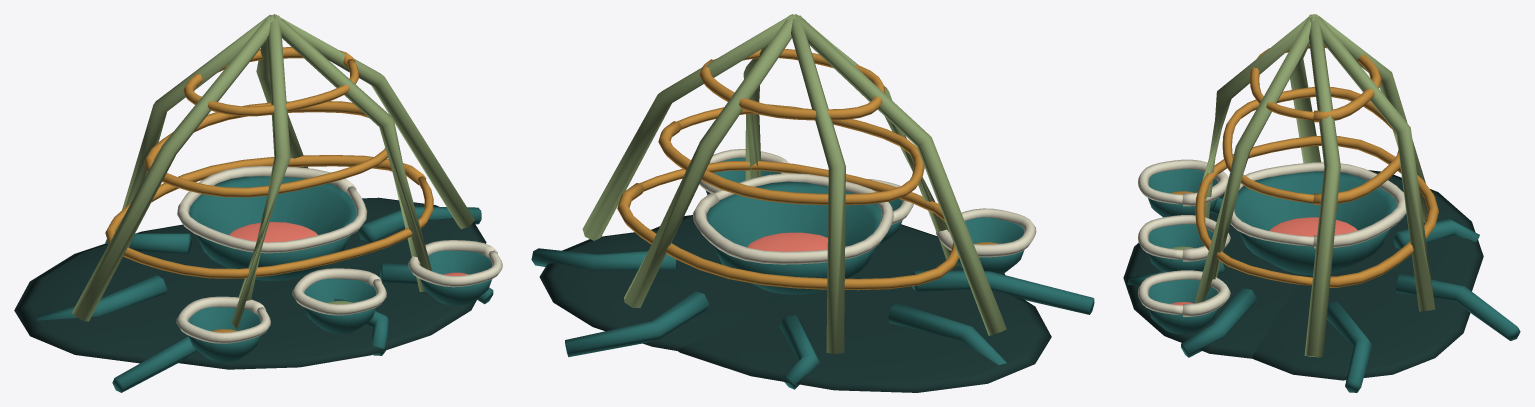
The model's file is building_artisan_organ_a.obj.
The picture shows the model from 3 angles, left to right: view 1: azimuth 30°, elevation 25°; view 2: azimuth 150°, elevation 25°; view 3: azimuth 270°, elevation 25°; orthographic projection. The views are drawn at different scales.
Parts seen in each view (by area): view 1: irregular_anchoring_lobe.108, irregular_anchoring_lobe.110, open_living_cup.109, woven_cross_strand.003, tensioned_forming_rib.009, tensioned_forming_rib.011, grown_cup_lip.109, tensioned_forming_rib.006, tensioned_forming_rib.010, woven_cross_strand.004, irregular_anchoring_lobe.109, tensioned_forming_rib.008 (+15 smaller); view 2: irregular_anchoring_lobe.108, irregular_anchoring_lobe.109, open_living_cup.109, woven_cross_strand.003, tensioned_forming_rib.009, tensioned_forming_rib.008, tensioned_forming_rib.007, tensioned_forming_rib.006, woven_cross_strand.004, grown_cup_lip.109, irregular_anchoring_lobe.110, anchoring_root.253 (+11 smaller); view 3: irregular_anchoring_lobe.109, open_living_cup.109, irregular_anchoring_lobe.110, tensioned_forming_rib.006, woven_cross_strand.003, tensioned_forming_rib.007, irregular_anchoring_lobe.108, tensioned_forming_rib.011, grown_cup_lip.109, woven_cross_strand.004, tensioned_forming_rib.010, open_living_cup.112 (+13 smaller).
Boxes of the visible parts, left/top/right/bottom form: irregular_anchoring_lobe.108: left=14, top=224, right=270, bottom=363; irregular_anchoring_lobe.110: left=178, top=264, right=477, bottom=369; open_living_cup.109: left=189, top=176, right=356, bottom=281; woven_cross_strand.003: left=105, top=155, right=433, bottom=278; tensioned_forming_rib.009: left=72, top=16, right=273, bottom=321; tensioned_forming_rib.011: left=276, top=15, right=432, bottom=291; grown_cup_lip.109: left=177, top=166, right=367, bottom=253; tensioned_forming_rib.006: left=274, top=14, right=474, bottom=229; tensioned_forming_rib.010: left=231, top=18, right=290, bottom=328; woven_cross_strand.004: left=144, top=101, right=387, bottom=197; irregular_anchoring_lobe.109: left=317, top=197, right=486, bottom=269; tensioned_forming_rib.008: left=122, top=15, right=271, bottom=247; irregular_anchoring_lobe.108: left=678, top=287, right=1051, bottom=392; irregular_anchoring_lobe.109: left=539, top=230, right=773, bottom=350; open_living_cup.109: left=706, top=181, right=881, bottom=294; woven_cross_strand.003: left=617, top=160, right=958, bottom=290; tensioned_forming_rib.009: left=796, top=15, right=1006, bottom=335; tensioned_forming_rib.008: left=791, top=17, right=845, bottom=353; tensioned_forming_rib.007: left=624, top=16, right=792, bottom=308; tensioned_forming_rib.006: left=582, top=14, right=793, bottom=240; woven_cross_strand.004: left=658, top=104, right=924, bottom=205; grown_cup_lip.109: left=692, top=173, right=893, bottom=264; irregular_anchoring_lobe.110: left=651, top=215, right=1005, bottom=291; anchoring_root.253: left=565, top=291, right=709, bottom=357; irregular_anchoring_lobe.109: left=1252, top=270, right=1470, bottom=380; open_living_cup.109: left=1234, top=171, right=1396, bottom=275; irregular_anchoring_lobe.110: left=1123, top=212, right=1308, bottom=358; tensioned_forming_rib.006: left=1304, top=17, right=1340, bottom=357; woven_cross_strand.003: left=1195, top=136, right=1438, bottom=287; tensioned_forming_rib.007: left=1315, top=16, right=1435, bottom=311; irregular_anchoring_lobe.108: left=1219, top=170, right=1483, bottom=291; tensioned_forming_rib.011: left=1194, top=16, right=1314, bottom=303; grown_cup_lip.109: left=1230, top=162, right=1406, bottom=248; woven_cross_strand.004: left=1222, top=87, right=1400, bottom=204; tensioned_forming_rib.010: left=1202, top=15, right=1311, bottom=218; open_living_cup.112: left=1148, top=279, right=1218, bottom=334.
Bounding box in the file's own units: 3.59 × 2.07 × 2.73.
